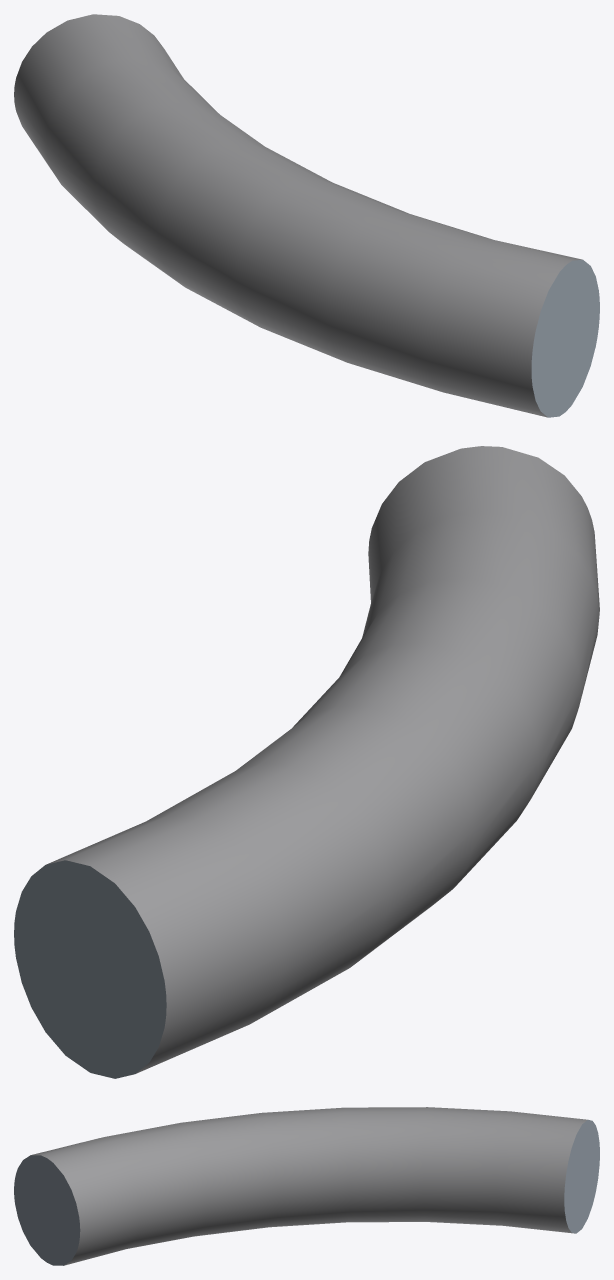
The model's file is sim_cer_neck.dae.
3 views of the same model, one above another, from view 1: azimuth 30°, elevation 25°; view 2: azimuth 150°, elevation 25°; view 3: azimuth 270°, elevation 25° (orthographic). The views are drawn at different scales.
Parts seen in each view (by area): view 1: mynode; view 2: mynode; view 3: mynode.
Boxes of the visible parts, box(x1,y1,x2,y2) form: mynode: box(14, 14, 599, 417); mynode: box(14, 446, 599, 1078); mynode: box(14, 1107, 599, 1265).
Bounding box in the file's own units: 74.25 × 40 × 203.
